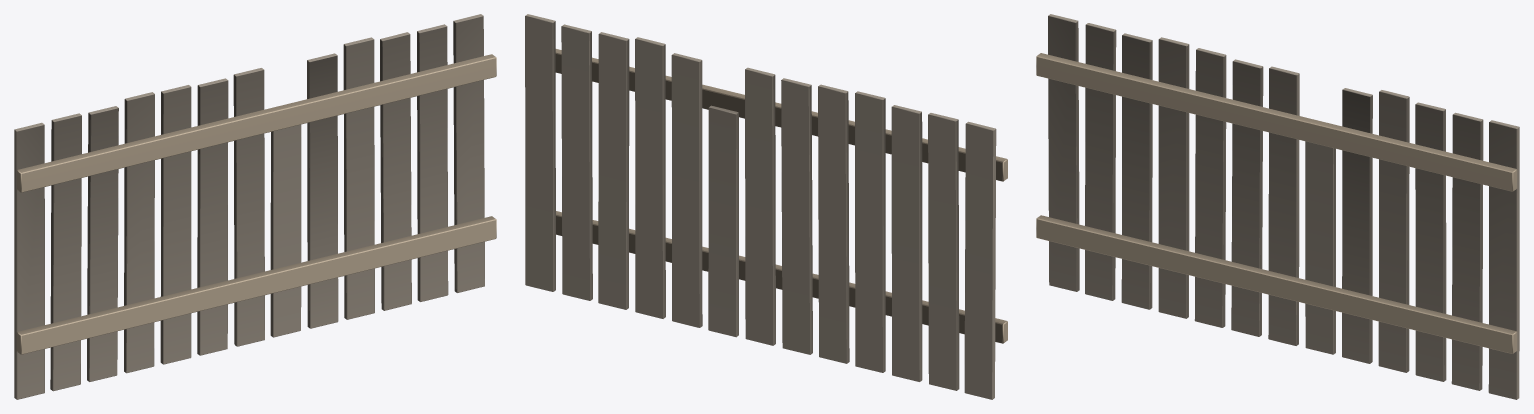
File: fence_panel.glb
3 renders of one model, left to right at view 1: azimuth 30°, elevation 25°; view 2: azimuth 150°, elevation 25°; view 3: azimuth 330°, elevation 25°, orthographic.
Visible parts, largest first — view 1: static; view 2: static; view 3: static.
Boxes of the visible parts, bbox=[...] form: static: bbox=[14, 14, 496, 399]; static: bbox=[525, 14, 1007, 399]; static: bbox=[1036, 14, 1519, 399].
Size of the model in its own units: 2 by 1.1 by 0.0833.
